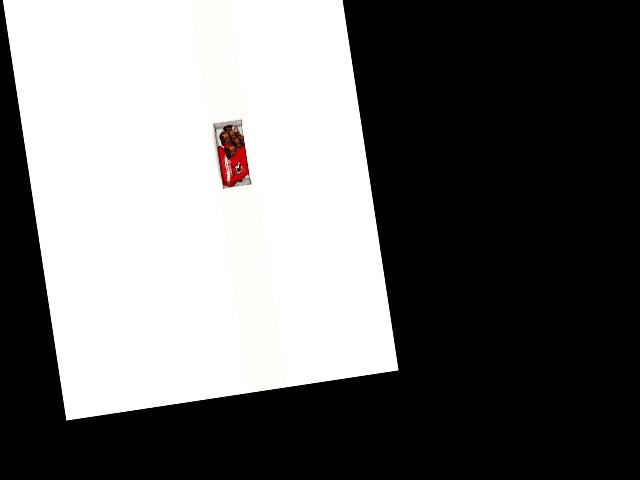chocolate: (197, 118, 249, 201)
